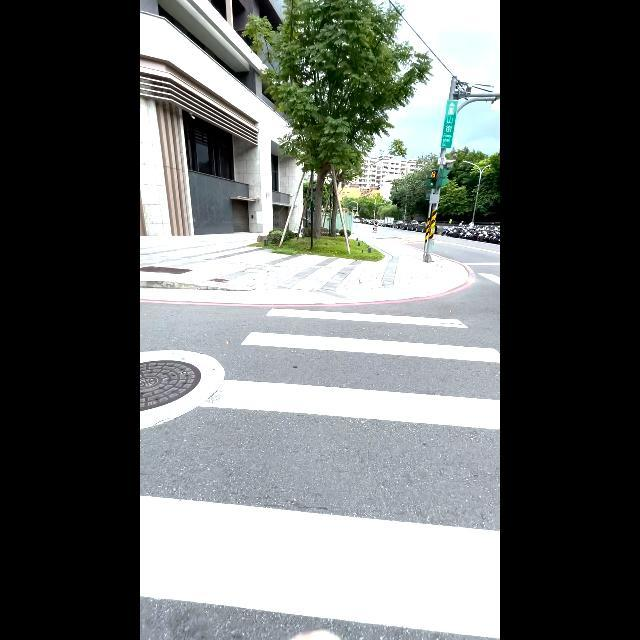sidewalk: (140, 309, 500, 640)
